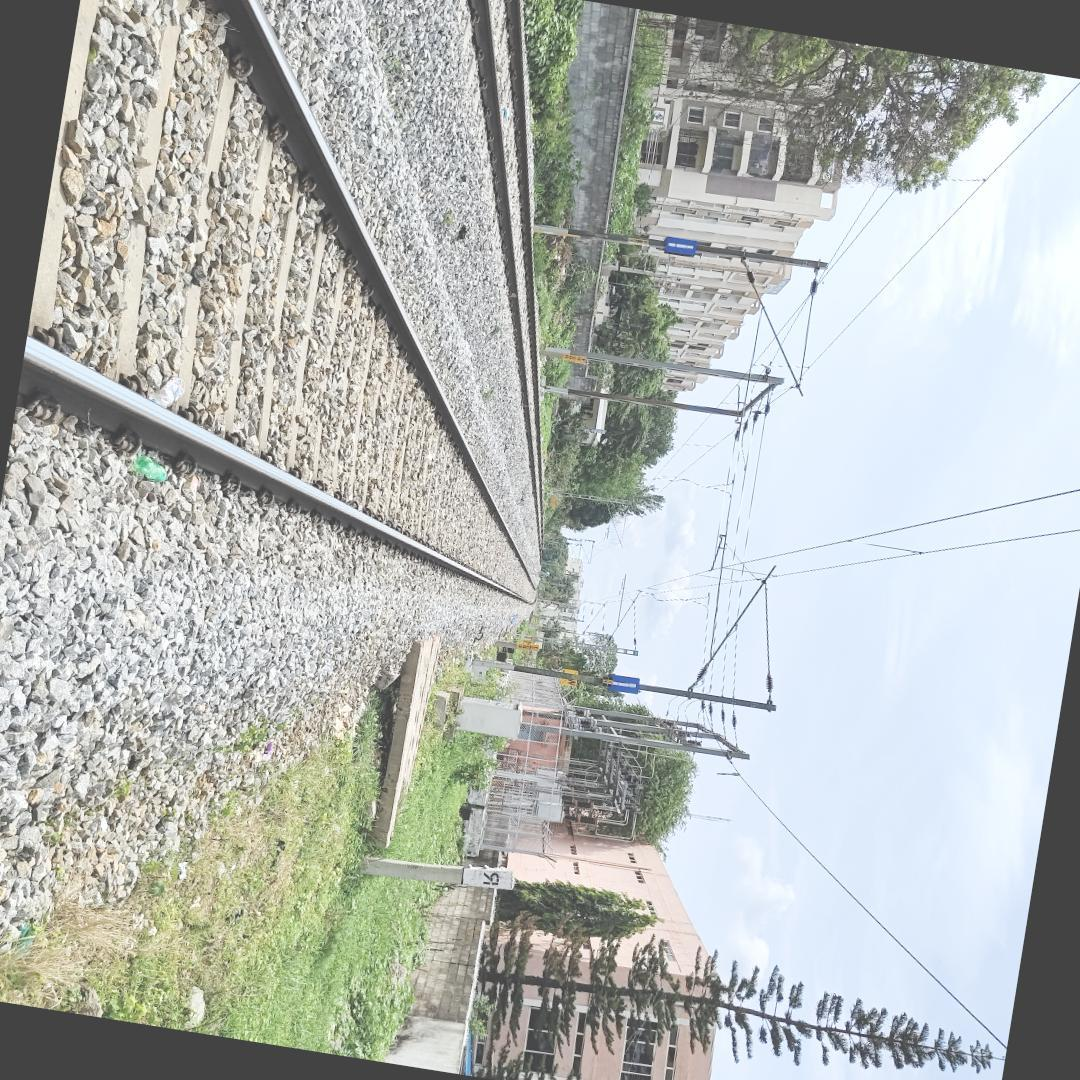track: (2, 0, 540, 616)
